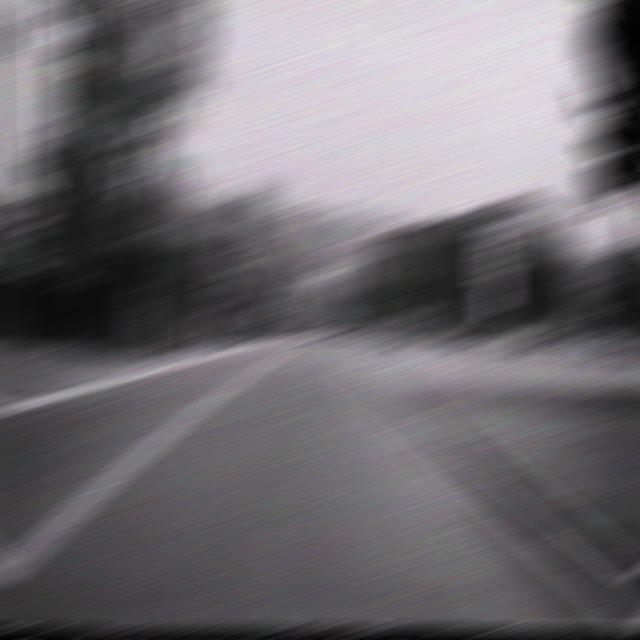speedLimit30: (477, 222, 516, 278)
